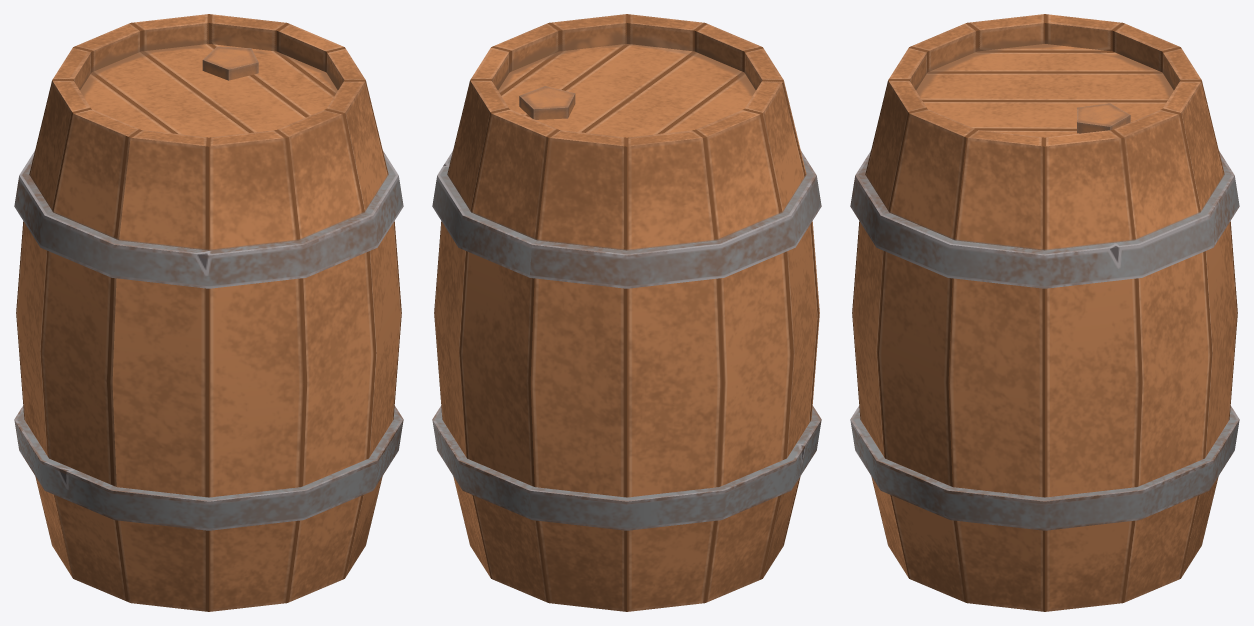
Rendered from Barrel.fbx.
3 renders of one model, left to right at view 1: azimuth 30°, elevation 25°; view 2: azimuth 150°, elevation 25°; view 3: azimuth 270°, elevation 25°, orthographic.
Parts seen in each view (by area): view 1: Barrel_LOD0; view 2: Barrel_LOD0; view 3: Barrel_LOD0.
Boxes of the visible parts, x1,y1,x2,y2 form: Barrel_LOD0: [14, 14, 403, 611]; Barrel_LOD0: [432, 14, 821, 611]; Barrel_LOD0: [850, 14, 1239, 611].
Size of what is drawn, in the model's own units: 68.25 by 90 by 68.25.
